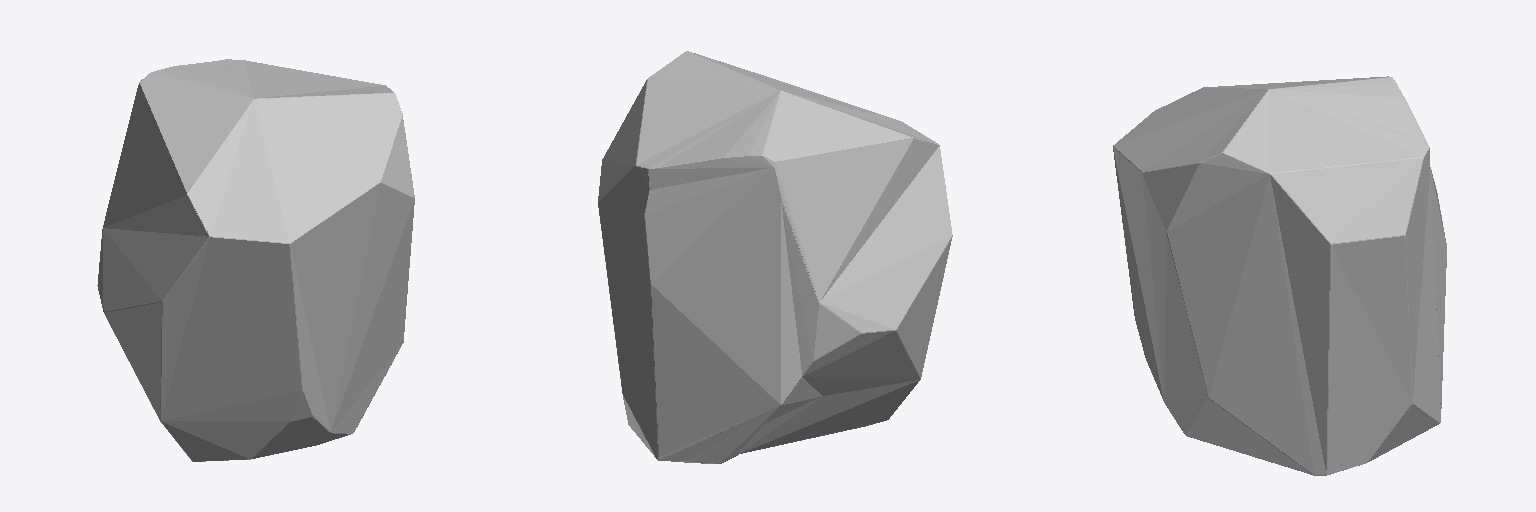
The model's file is rock_round_0.obj.
3 views of the same model, side by side, from view 1: azimuth 30°, elevation 25°; view 2: azimuth 150°, elevation 25°; view 3: azimuth 270°, elevation 25° (orthographic).
Parts seen in each view (by area): view 1: rock_round_0; view 2: rock_round_0; view 3: rock_round_0.
Boxes of the visible parts, box(x1,y1,x2,y2) form: rock_round_0: box(97, 59, 414, 461); rock_round_0: box(598, 51, 952, 463); rock_round_0: box(1113, 76, 1446, 475).
Bounding box in the file's own units: 1.95 × 2.16 × 2.01.